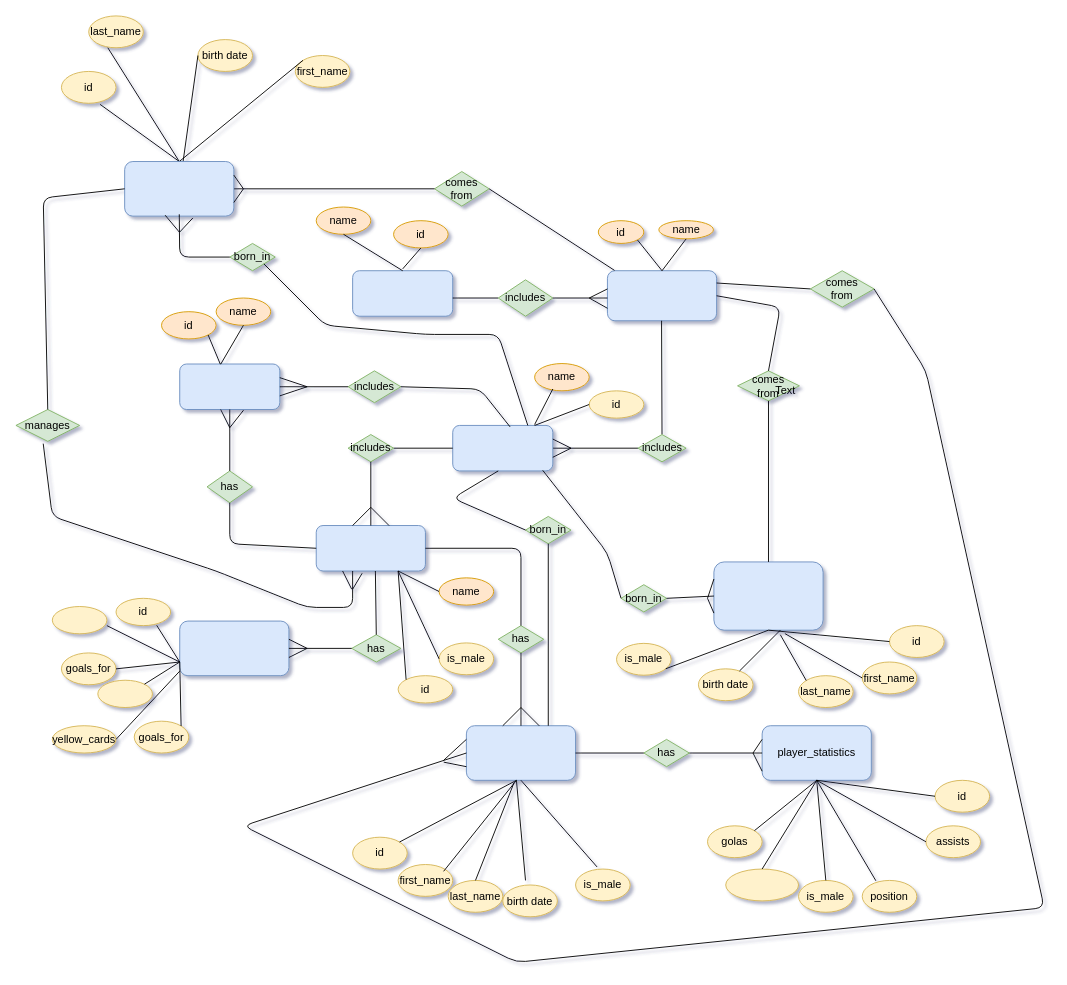
The diagram is 1067 pixels wide and 985 high, and some of its shapes have lost their labels. The centre of each missing label's shape, as x and y in pixels:
"cities" goes at pixel 502 448.
"Continents" goes at pixel 402 293.
"countries" goes at pixel 662 295.
"date" goes at pixel 124 693.
"managers" goes at pixel 179 188.
"players" goes at pixel 520 752.
"red_cards" goes at pixel 79 620.
"referees" goes at pixel 768 595.
"stadiums" goes at pixel 229 386.
"statistics_date" goes at pixel 762 884.
"team_statistics" goes at pixel 234 648.
"teams" goes at pixel 370 548.
